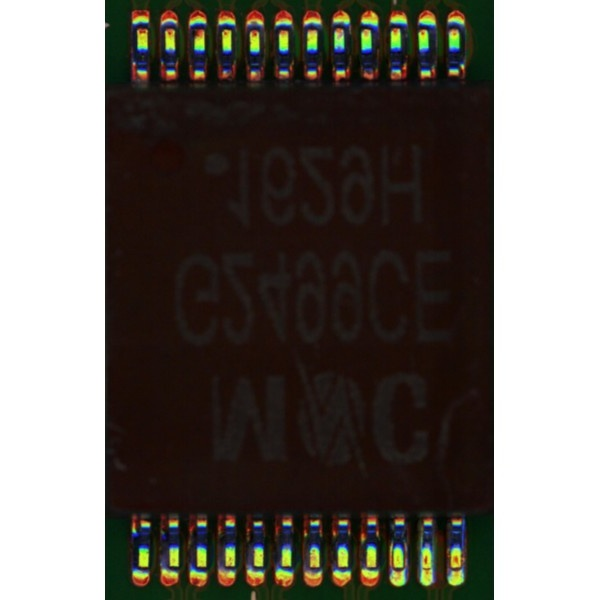Bad_podu: (451, 561, 461, 576), (393, 565, 404, 575), (423, 560, 430, 575)
Bad_qiaojiao: (403, 540, 409, 568), (389, 540, 393, 567)
